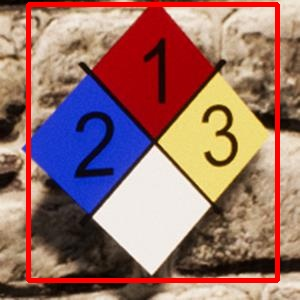nfpa: (28, 4, 277, 280)
